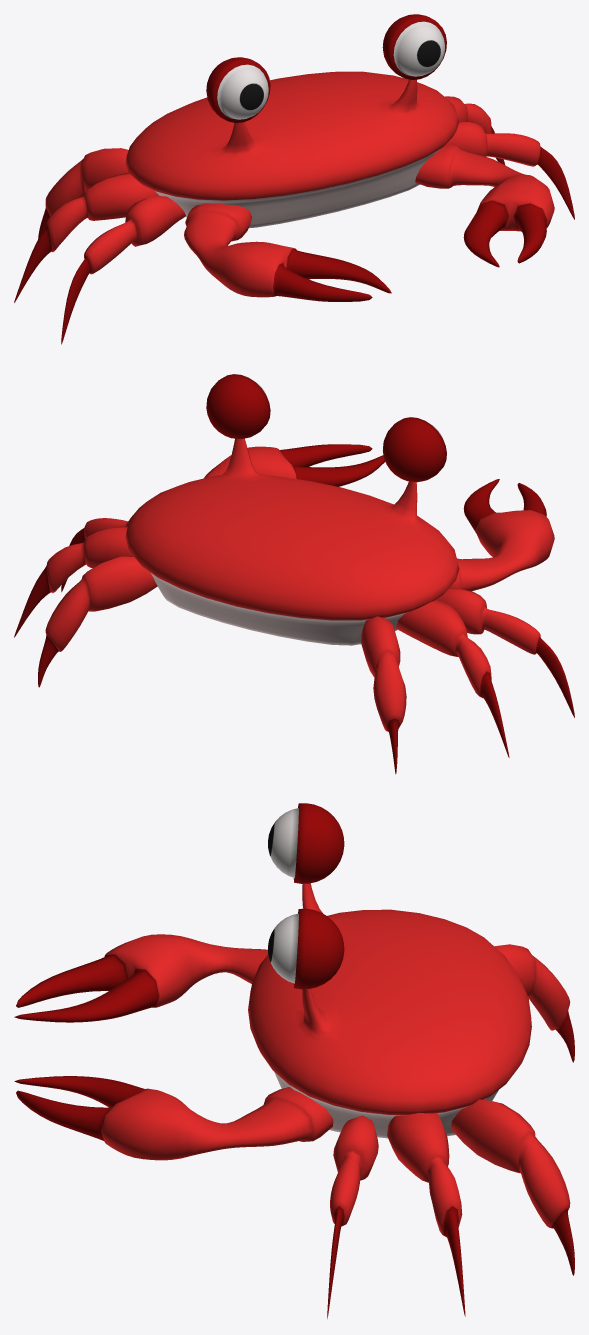
File: Crab 1.fbx
The picture shows the model from 3 angles, top to bottom: view 1: azimuth 30°, elevation 25°; view 2: azimuth 150°, elevation 25°; view 3: azimuth 270°, elevation 25°; orthographic projection. The views are drawn at different scales.
Parts seen in each view (by area): view 1: Crab.004; view 2: Crab.004; view 3: Crab.004.
Part boxes in pixels (left/top/right/bottom): Crab.004: left=14, top=14, right=574, bottom=344; Crab.004: left=14, top=374, right=574, bottom=774; Crab.004: left=14, top=803, right=574, bottom=1318.
Bounding box in the file's own units: 93.59 × 44.04 × 72.26.
1 material, 1 textured.
